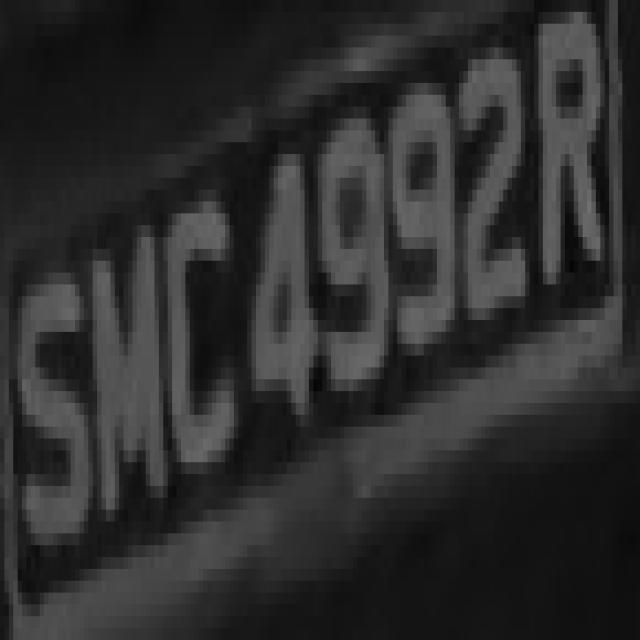2: (446, 24, 530, 367)
4: (243, 95, 322, 486)
9: (309, 94, 397, 427), (379, 83, 468, 403)
C: (155, 166, 247, 474)
M: (88, 189, 168, 522)
R: (525, 24, 618, 308)
S: (13, 213, 93, 604)
